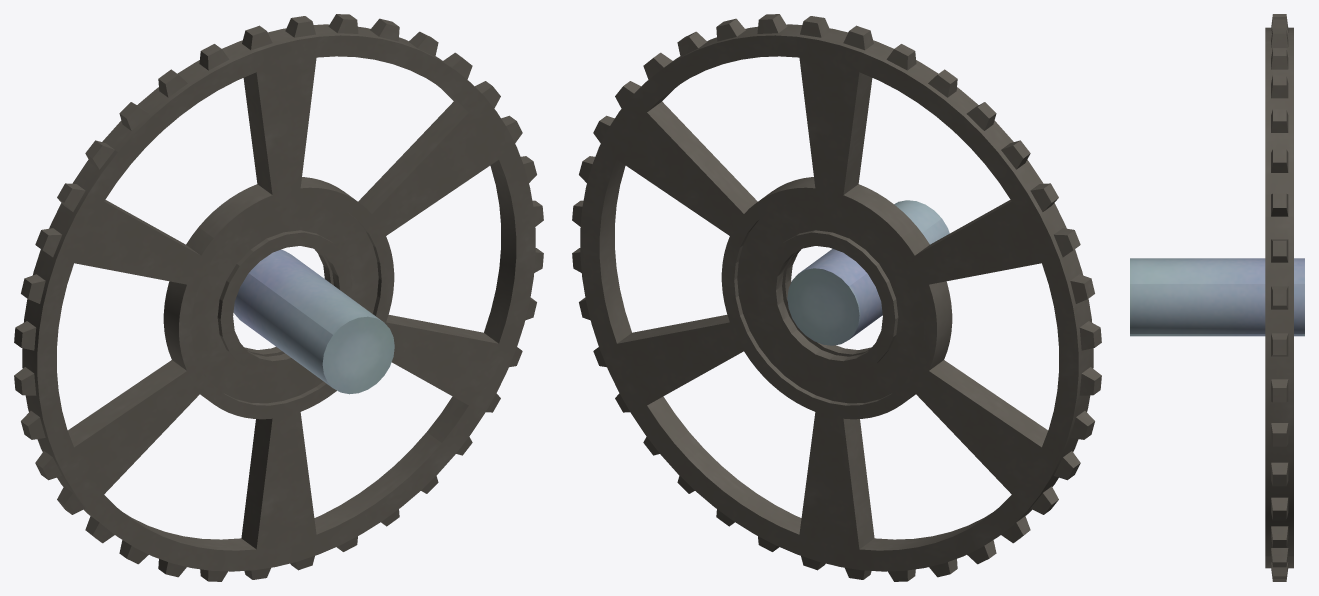
Rendered from module-timer-01.glb.
3 views of the same model, side by side, from view 1: azimuth 30°, elevation 25°; view 2: azimuth 150°, elevation 25°; view 3: azimuth 270°, elevation 25° (orthographic). The views are drawn at different scales.
Parts seen in each view (by area): view 1: Mesh_0.002; view 2: Mesh_0.002; view 3: Mesh_0.002.
Boxes of the visible parts, left/top/right/bottom form: Mesh_0.002: left=14, top=14, right=543, bottom=581; Mesh_0.002: left=572, top=14, right=1101, bottom=581; Mesh_0.002: left=1130, top=14, right=1304, bottom=581.
Bounding box in the file's own units: 1.99 × 1.99 × 0.6137.
1 material, 1 textured.
